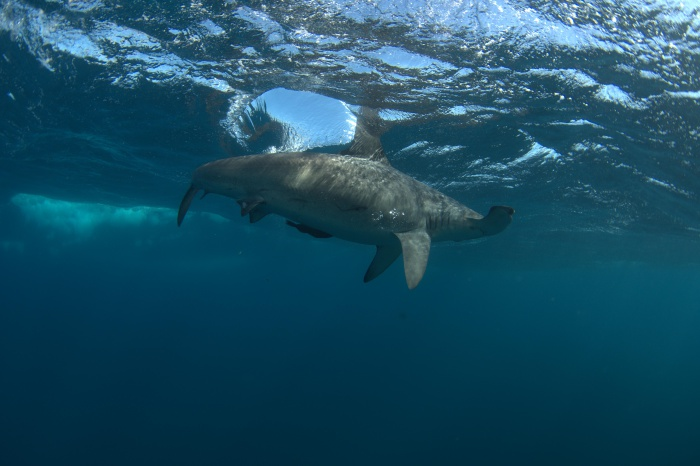Hammer: (169, 114, 528, 301)
